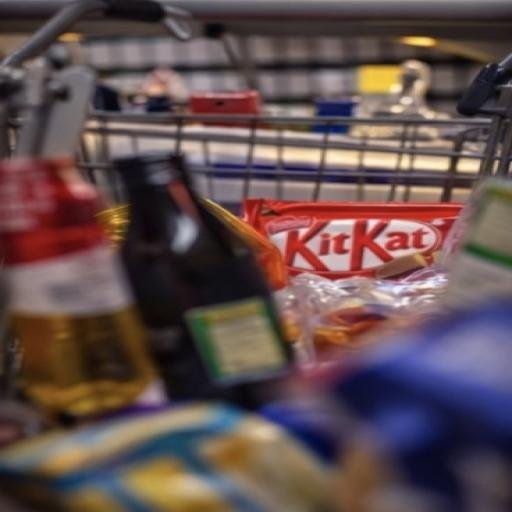kitkat: (206, 180, 512, 297)
